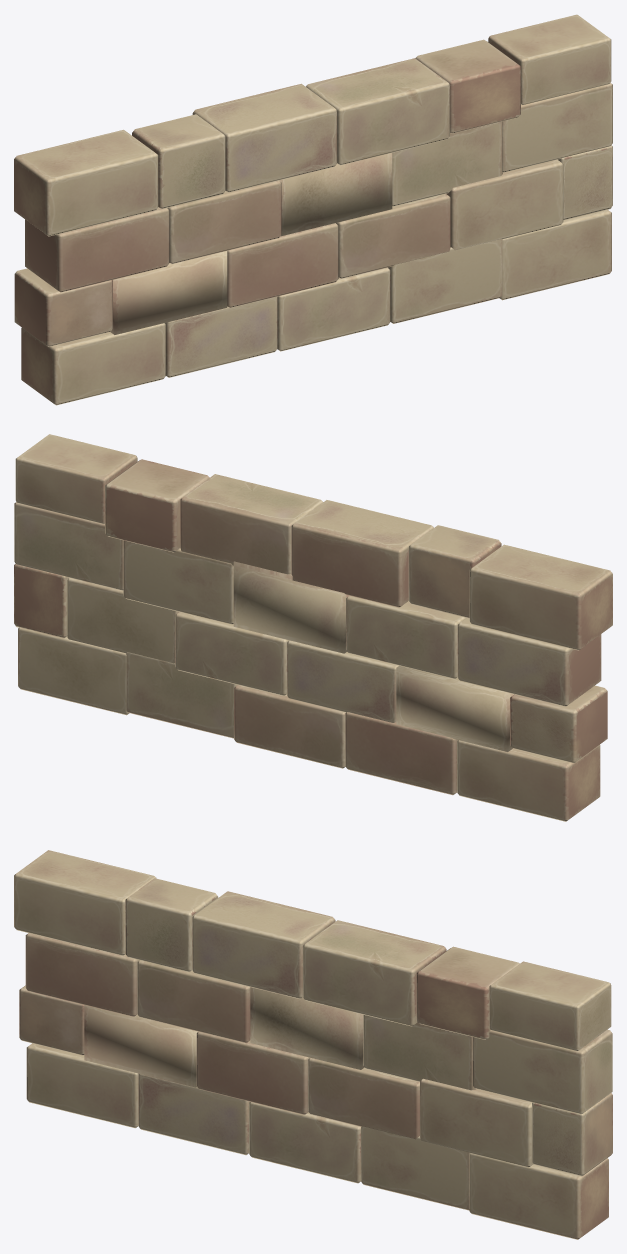
The model's file is exteriorhalfwall1.fbx.
3 views of the same model, one above another, from view 1: azimuth 30°, elevation 25°; view 2: azimuth 150°, elevation 25°; view 3: azimuth 330°, elevation 25° (orthographic).
Parts seen in each view (by area): view 1: exteriorhalfwall_LOD0; view 2: exteriorhalfwall_LOD0; view 3: exteriorhalfwall_LOD0.
Boxes of the visible parts, x1,y1,x2,y2 form: exteriorhalfwall_LOD0: (14,14,612,405); exteriorhalfwall_LOD0: (14,434,612,821); exteriorhalfwall_LOD0: (14,850,612,1239).
Bounding box in the file's own units: 2.56 × 1.02 × 0.3014.
